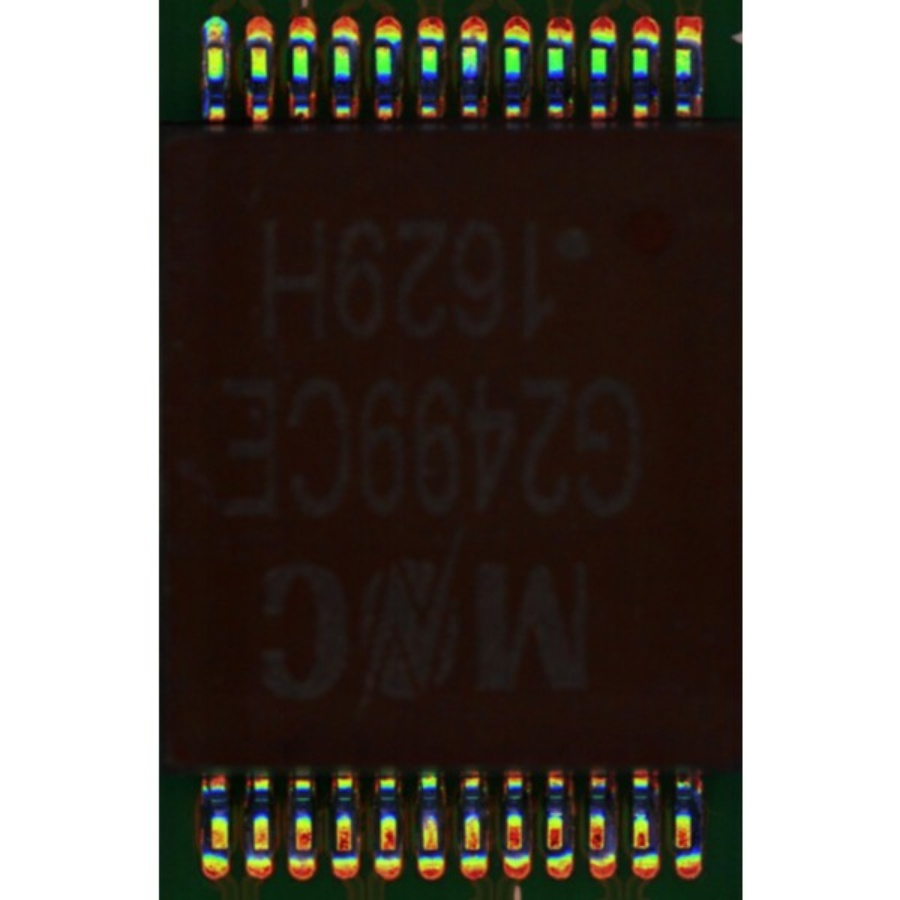Bad_podu: (208, 34, 221, 56)
Bad_qiaojiao: (200, 48, 207, 119), (223, 47, 230, 94)
